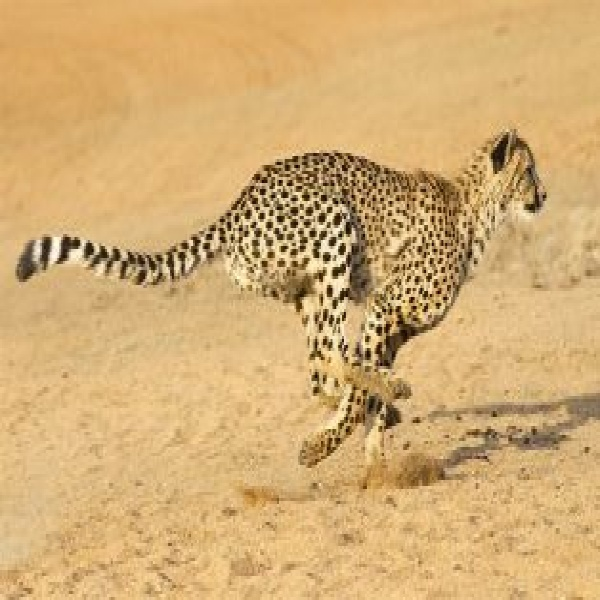Cheetah: (19, 126, 553, 493)
